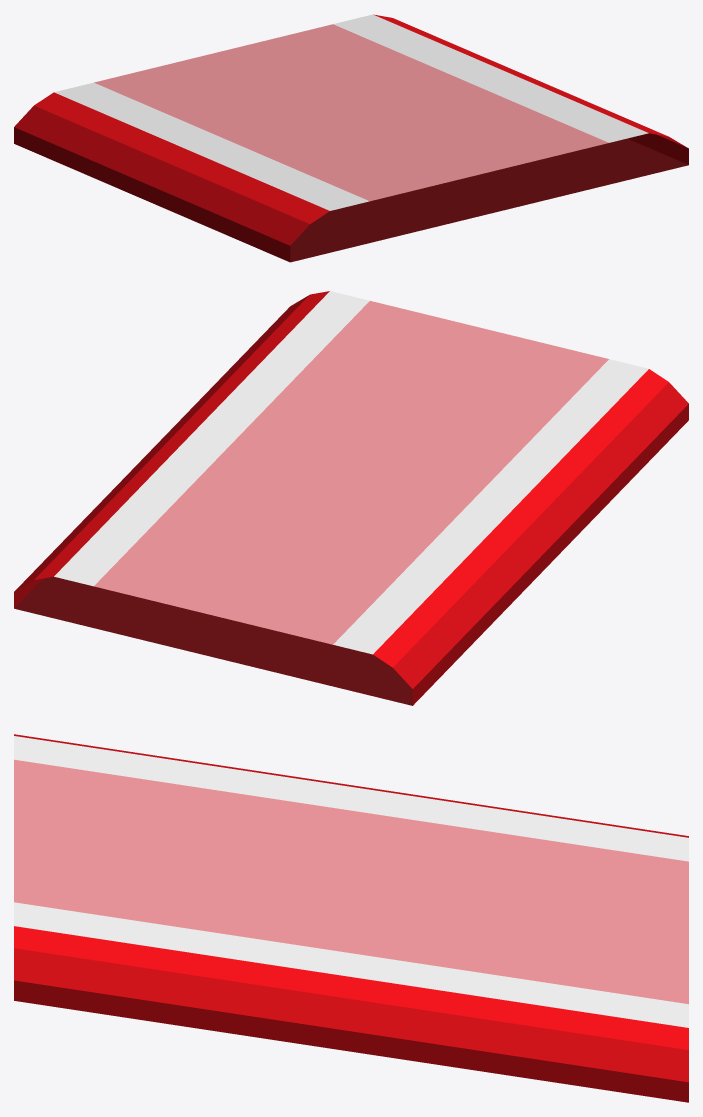
Rendered from inc1.fbx.
3 renders of one model, top to bottom at view 1: azimuth 30°, elevation 25°; view 2: azimuth 150°, elevation 25°; view 3: azimuth 270°, elevation 25°, orthographic. The views are drawn at different scales.
Parts seen in each view (by area): view 1: Incline1; view 2: Incline1; view 3: Incline1.
Part boxes in pixels (x1,y1,x2,y2): Incline1: (14,14,688,262); Incline1: (14,291,688,705); Incline1: (14,734,688,1102).
Size of the model in its own units: 10 by 3 by 12.
